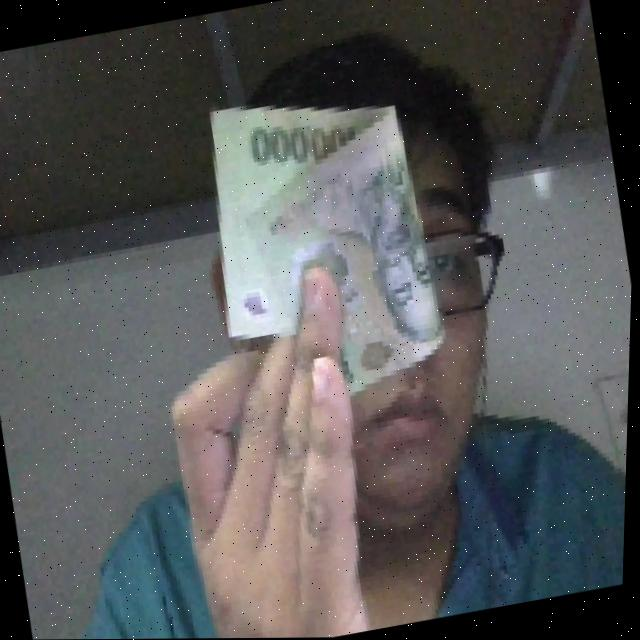100 000 VND: (185, 67, 465, 421)
